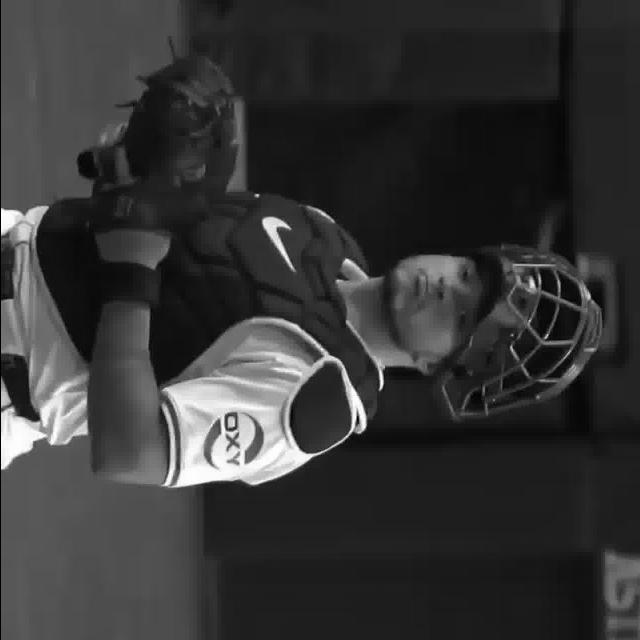baseball_glove: (86, 56, 240, 236)
